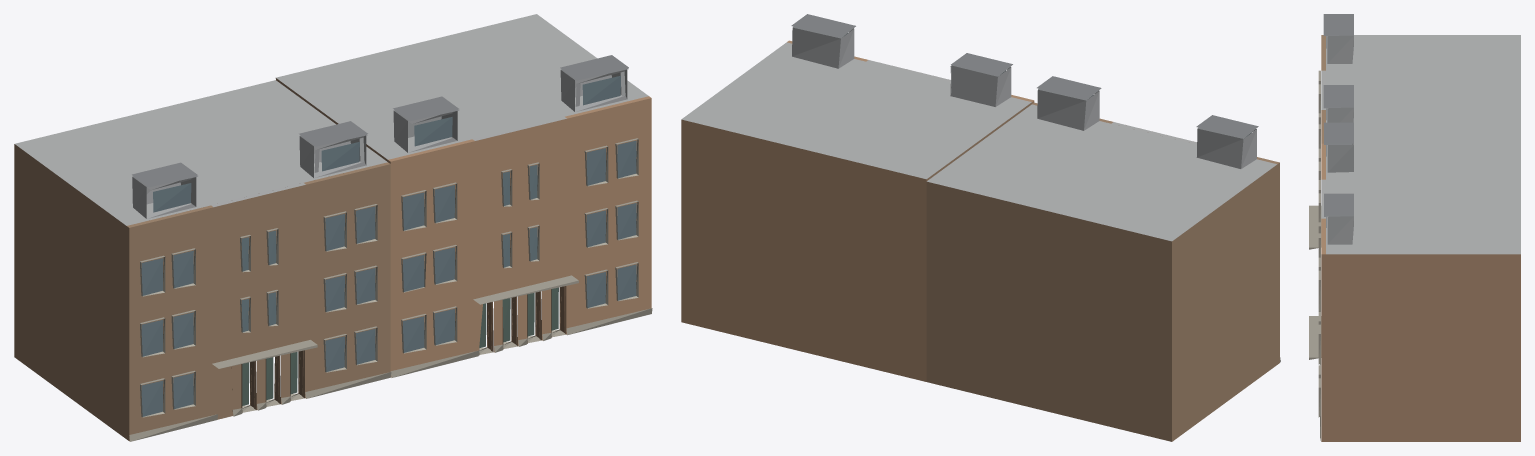
The model's file is chunk-face-haen-3-31-r2.lod2.glb.
3 views of the same model, side by side, from view 1: azimuth 30°, elevation 25°; view 2: azimuth 150°, elevation 25°; view 3: azimuth 270°, elevation 25° (orthographic). The views are drawn at different scales.
Visible parts, largest first — view 1: lod2; view 2: lod2; view 3: lod2.
Part boxes in pixels (bbox=[...]): lod2: bbox=[14, 14, 652, 441]; lod2: bbox=[681, 14, 1280, 441]; lod2: bbox=[1309, 14, 1520, 441].
Size of the model in its own units: 25.61 by 11.72 by 10.35.
